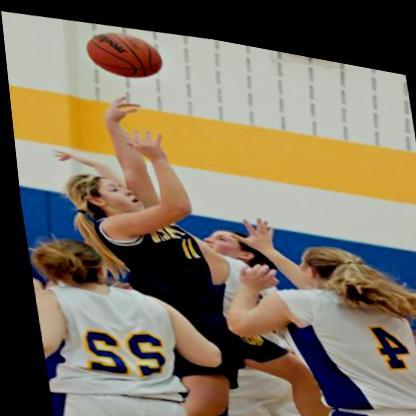basketball: (82, 18, 168, 80)
